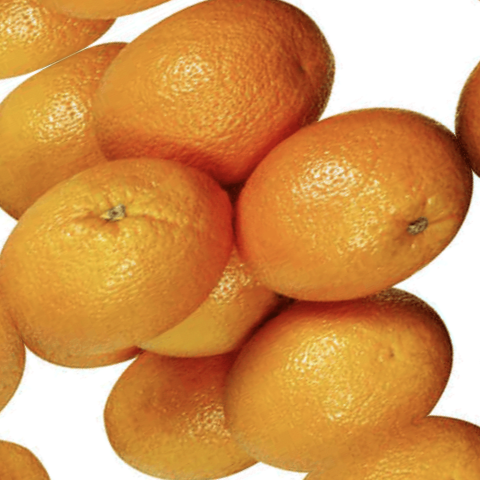orange: (48, 0, 374, 244), (202, 70, 480, 351), (0, 113, 260, 395), (182, 260, 474, 480)
